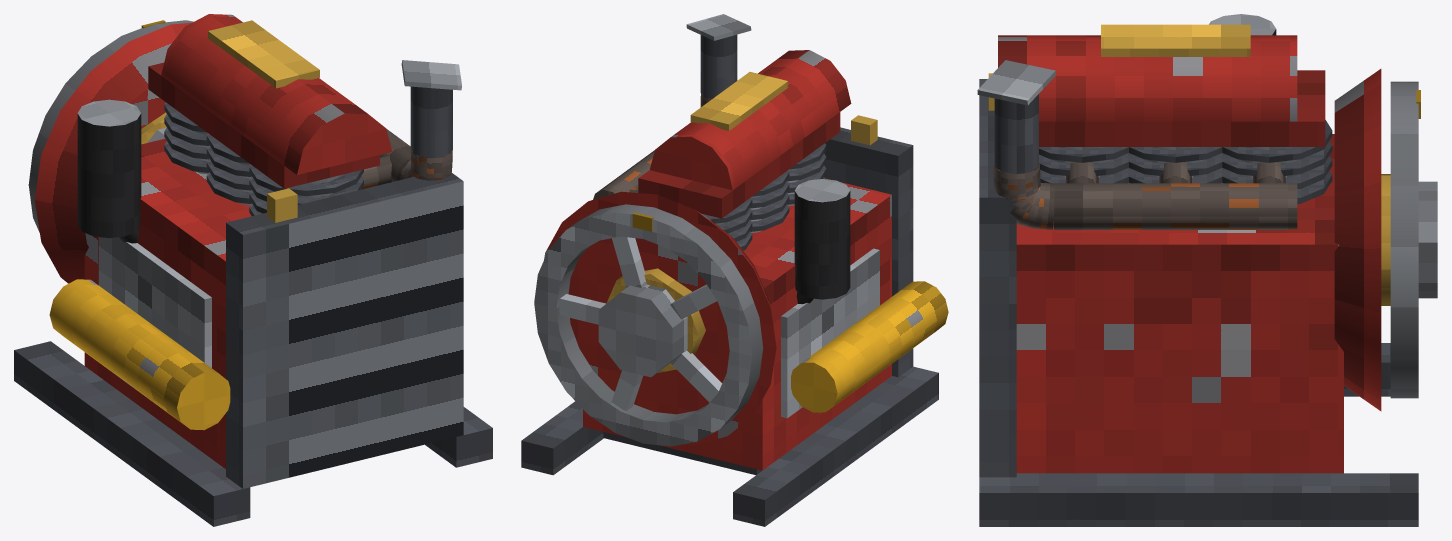
The model's file is diesel_engine.obj.
The picture shows the model from 3 angles, left to right: view 1: azimuth 30°, elevation 25°; view 2: azimuth 150°, elevation 25°; view 3: azimuth 270°, elevation 25°; orthographic projection. The views are drawn at different scales.
Bounding box in the file's own units: 0.8201 × 1 × 0.9781.
